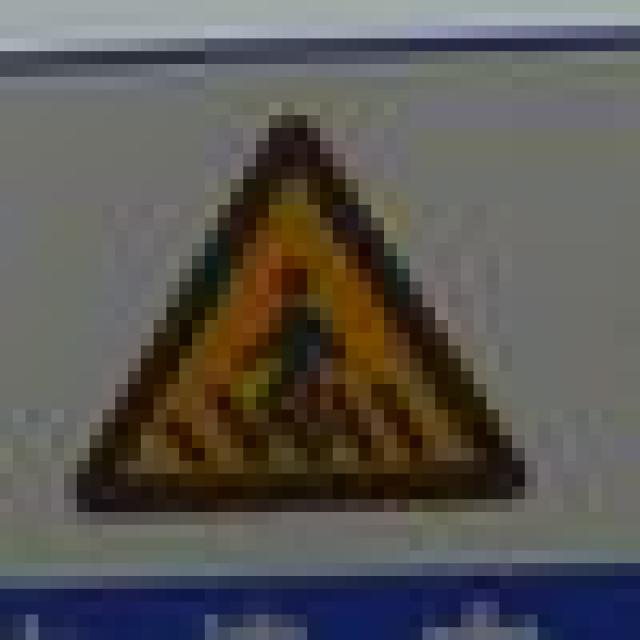pass_either_side: (51, 90, 525, 512)
